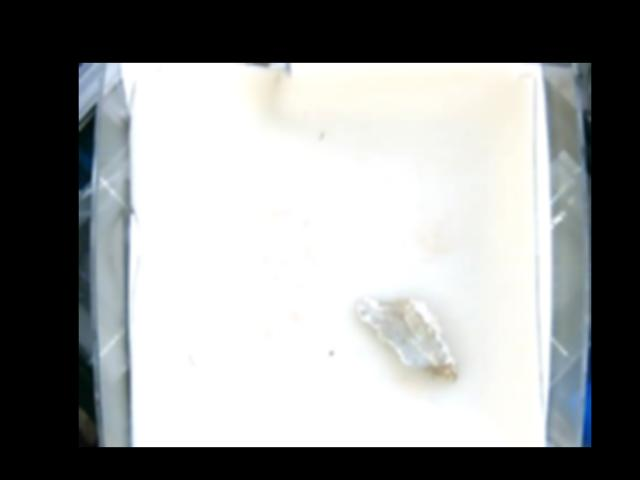Brisk: (356, 295, 455, 377)
